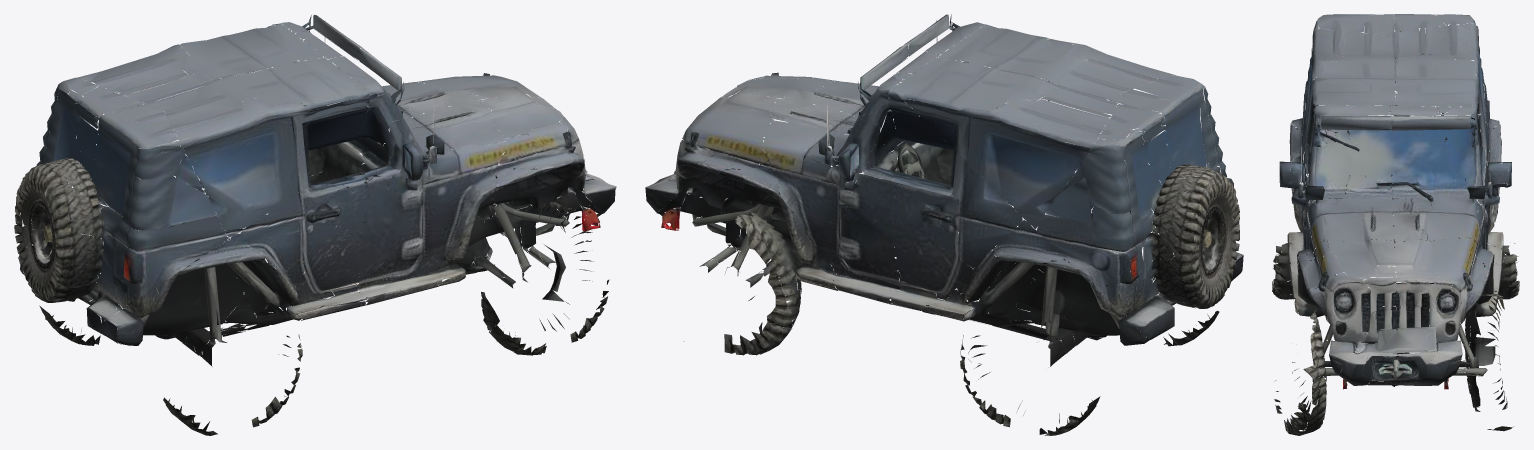
File: linus_wrangler.glb
3 renders of one model, left to right at view 1: azimuth 30°, elevation 25°; view 2: azimuth 150°, elevation 25°; view 3: azimuth 270°, elevation 25°, orthographic. The views are drawn at different scales.
Visible parts, largest first — view 1: V_BODY; view 2: V_BODY; view 3: V_BODY.
Part boxes in pixels (box(x1,y1,x2,y2)): V_BODY: box(14, 15, 616, 435); V_BODY: box(645, 14, 1243, 435); V_BODY: box(1272, 14, 1519, 435).
Bounding box in the file's own units: 4.25 × 2.14 × 1.92.
1 material, 1 textured.
